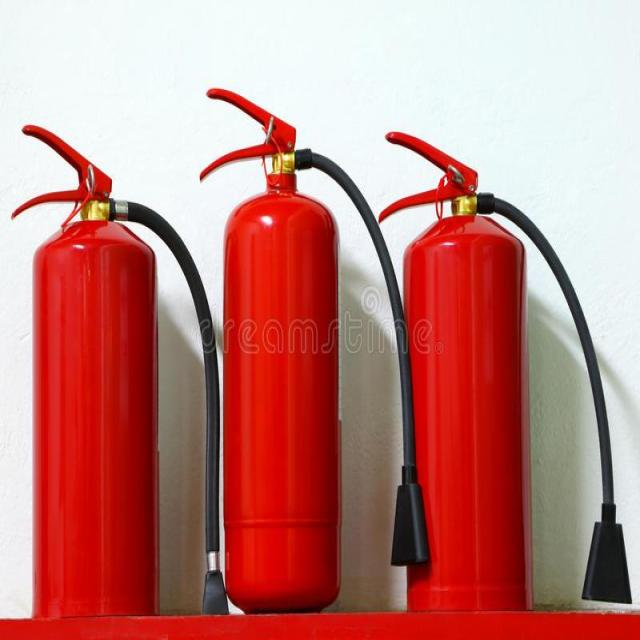fire_extinguisher: (368, 121, 634, 617), (193, 84, 433, 620), (8, 120, 235, 622)
